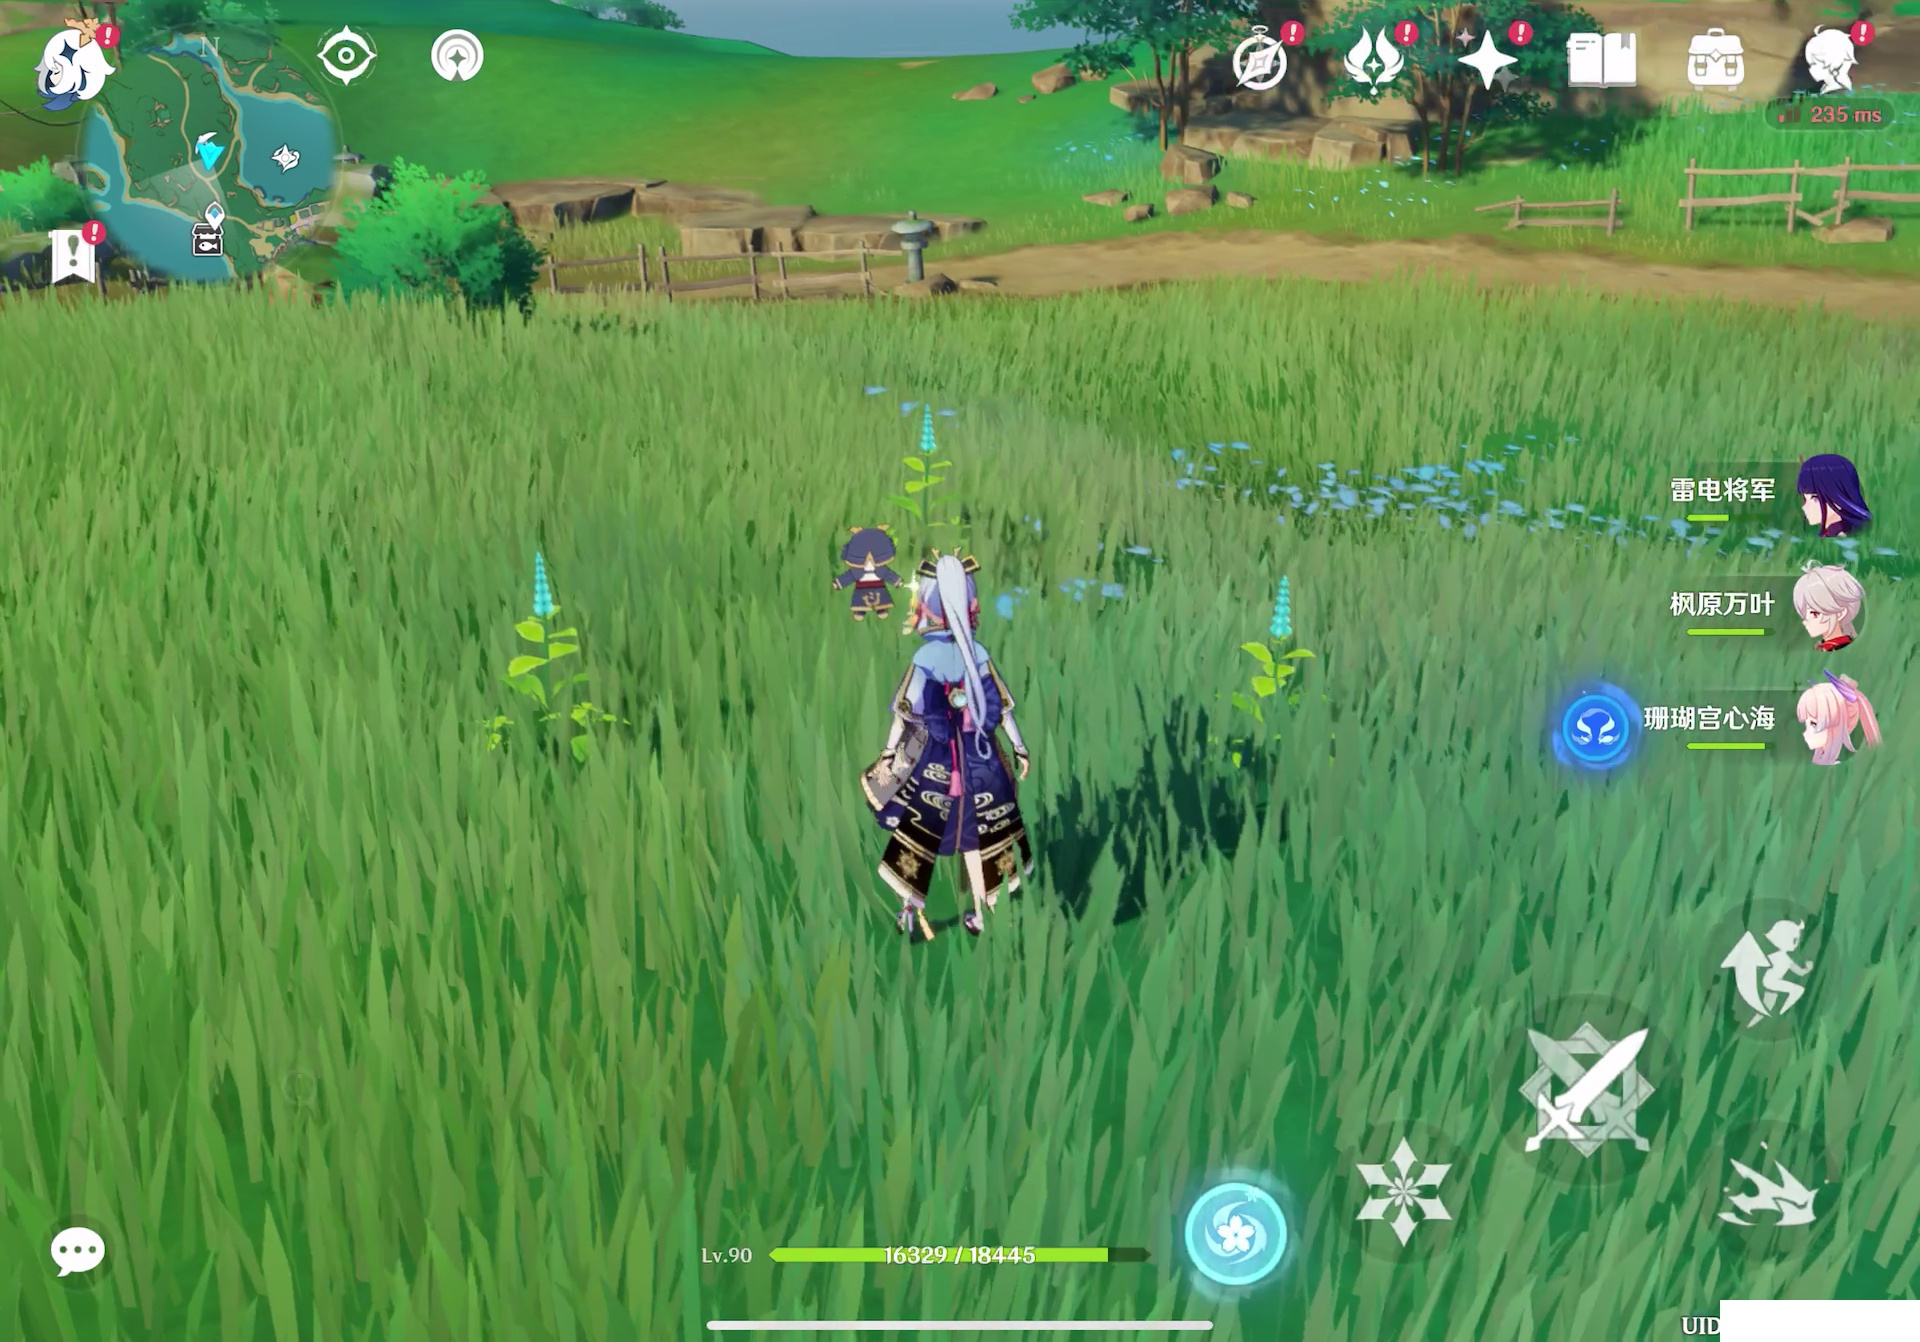没用的薄荷: (490, 554, 616, 780), (1215, 570, 1329, 777), (867, 368, 995, 541)
神里绫龟: (864, 556, 1045, 951)
